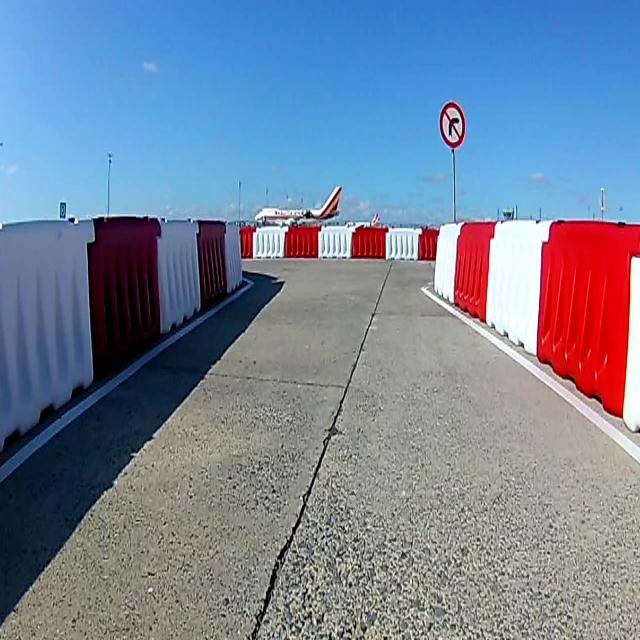sagadonulmez: (439, 100, 466, 150)
